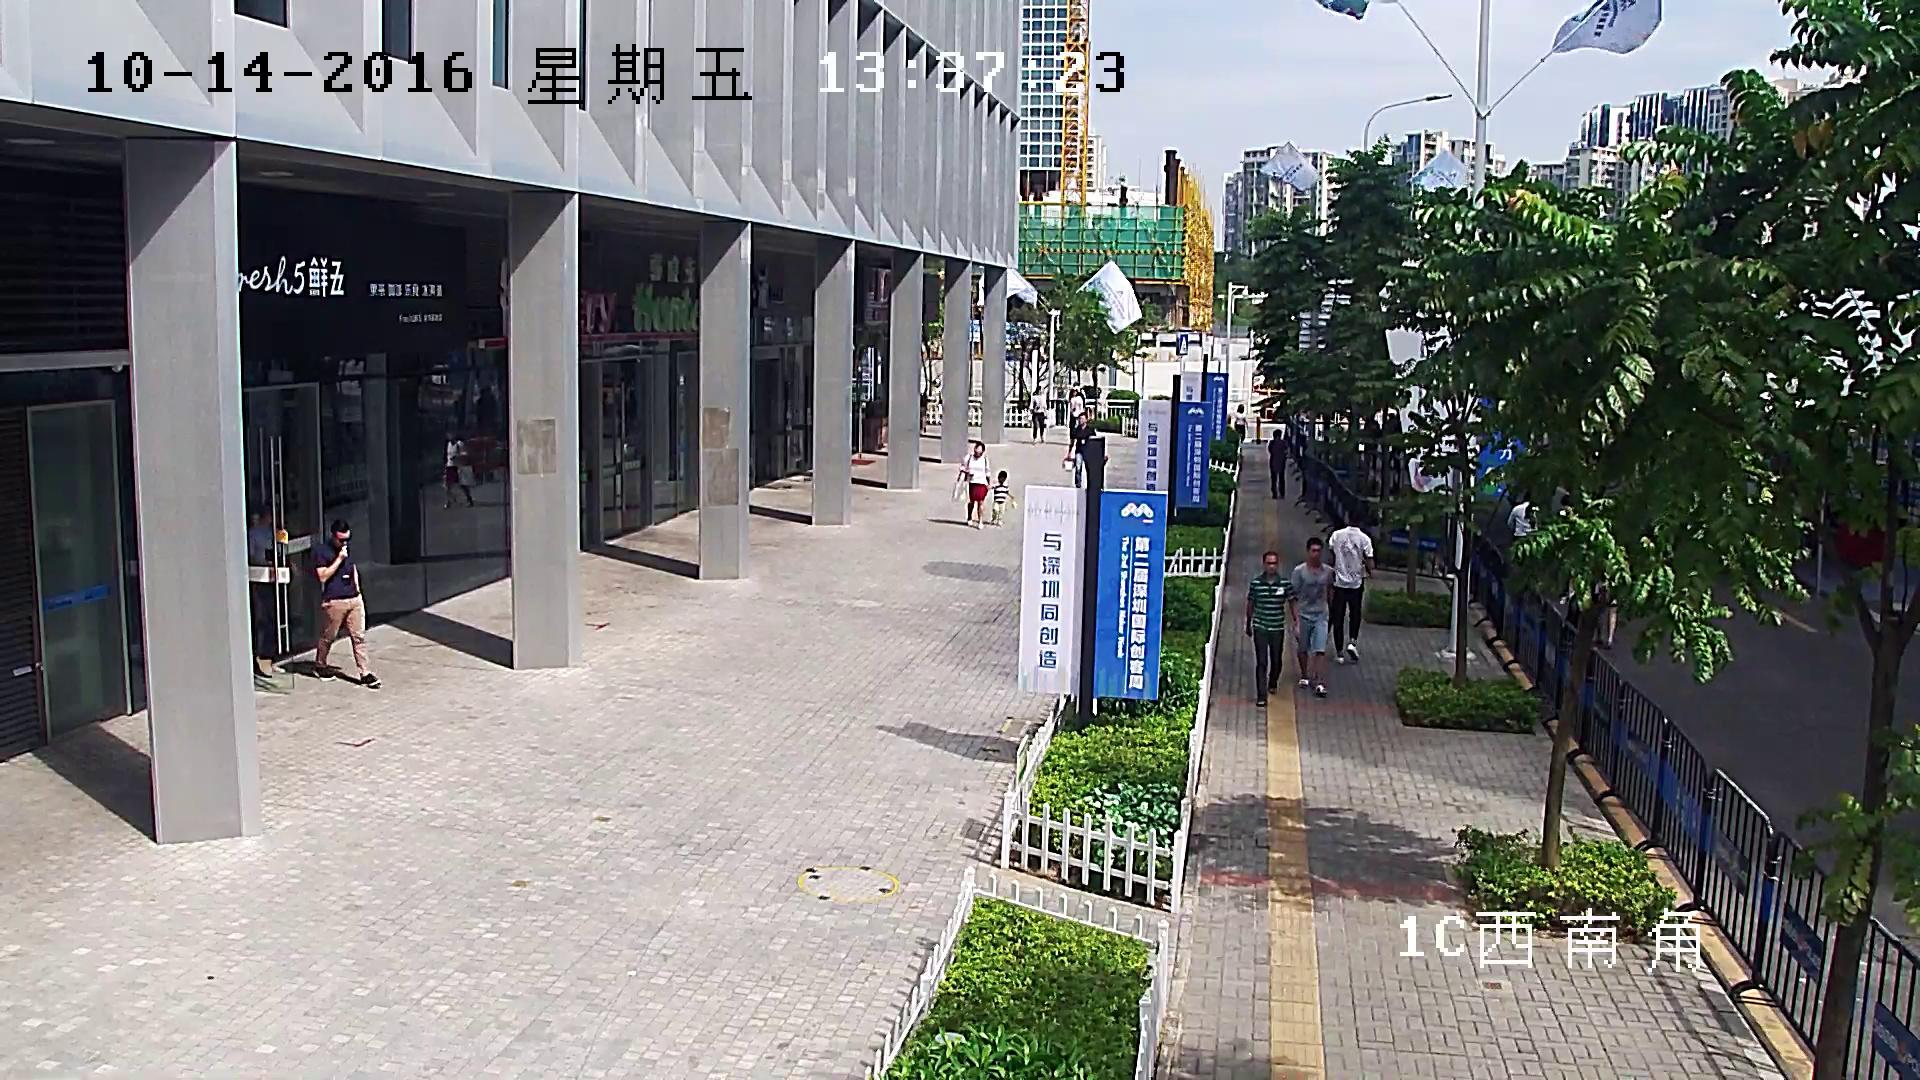person: (312, 519, 380, 687), (1245, 551, 1295, 707), (1329, 510, 1374, 664), (1291, 537, 1335, 695), (248, 505, 286, 677), (952, 441, 990, 530), (959, 441, 990, 529), (441, 430, 473, 510), (1062, 413, 1096, 488), (990, 471, 1015, 526), (1268, 429, 1287, 499), (1507, 493, 1530, 541), (1030, 386, 1044, 444), (1070, 390, 1082, 437), (1234, 403, 1248, 443)
